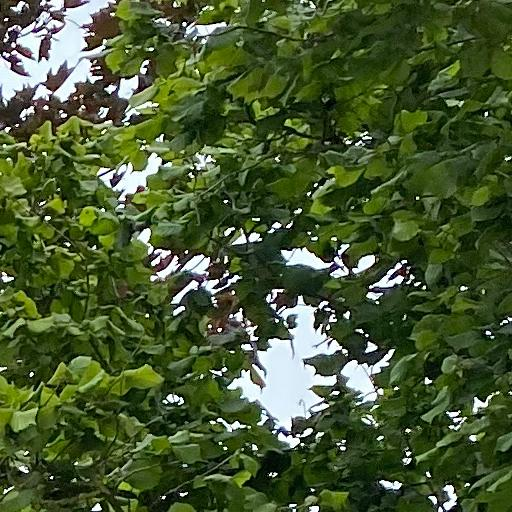tree: (1, 1, 511, 511), (1, 1, 199, 147)
